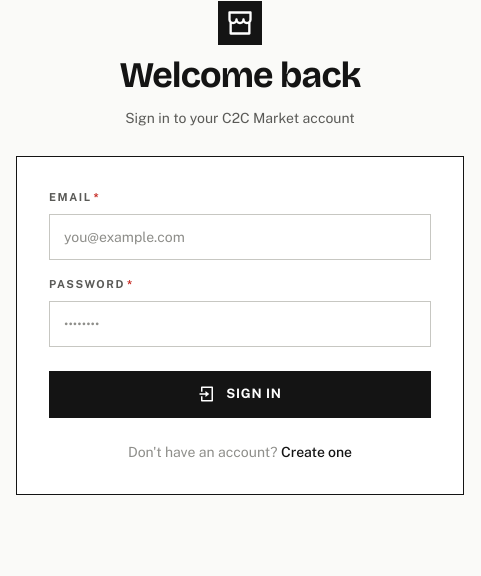
Scenario: M5 — sends the user where they were going after signing in › does not navigate when the sign-in fails
In the field labelled "Email*": (240, 237) [49, 214, 431, 260], type "ada@example.test"
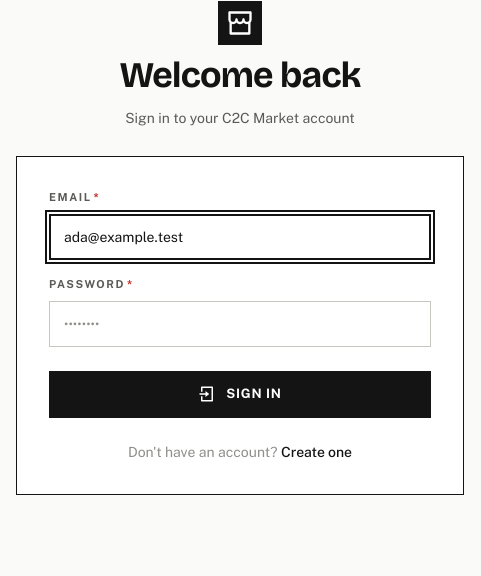
In the password field labelled "Password*": (240, 324) [49, 301, 431, 347], type "password123"
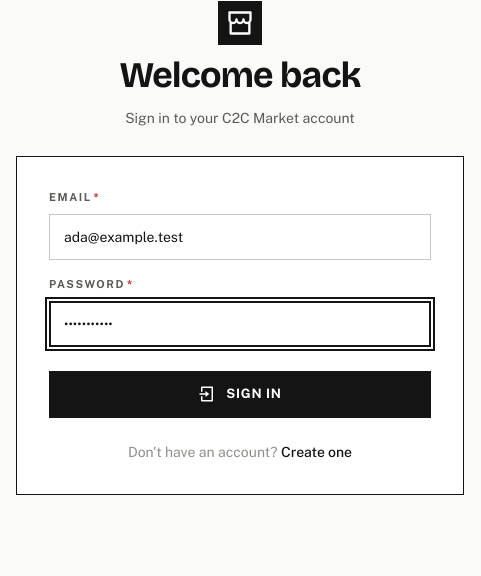
Click the button "Sign in": click(240, 394) [49, 371, 431, 418]
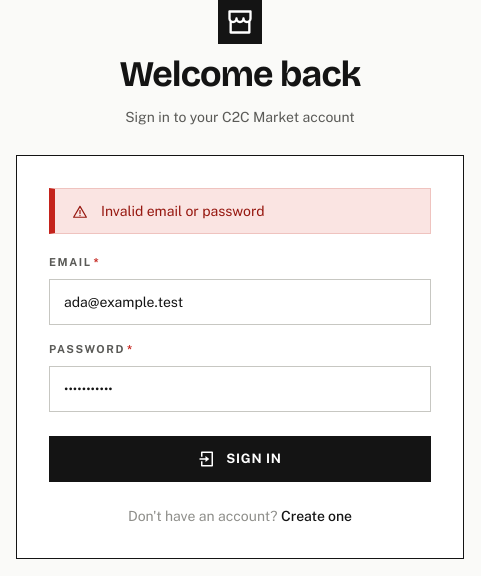
Check: the text "Invalid email or password" is shown, box [101, 201, 265, 221]
